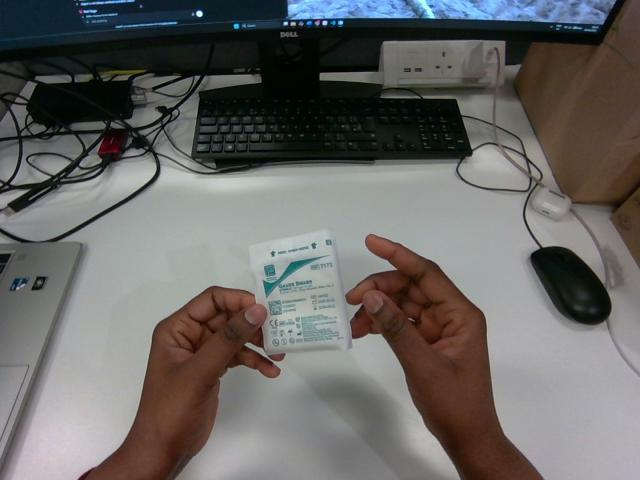gauze: (249, 229, 351, 353)
